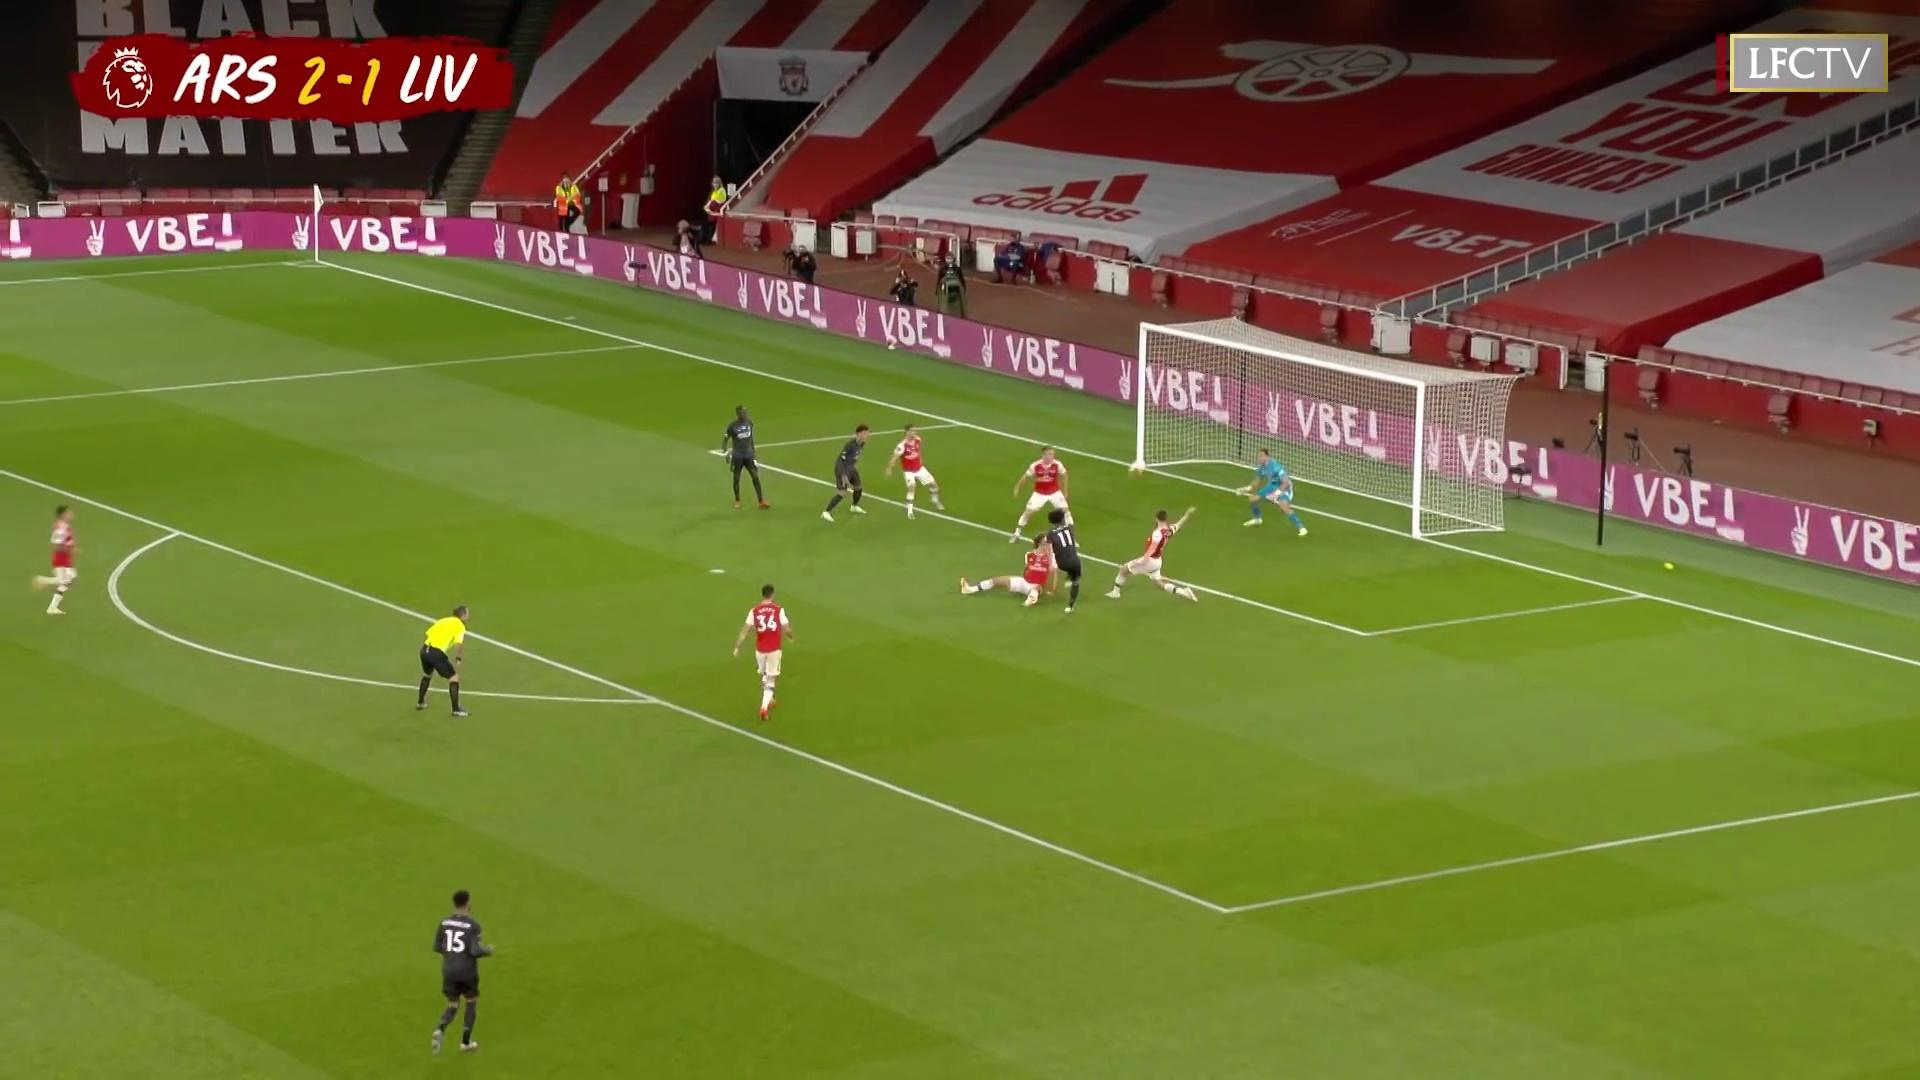ball: (1127, 456, 1150, 476)
